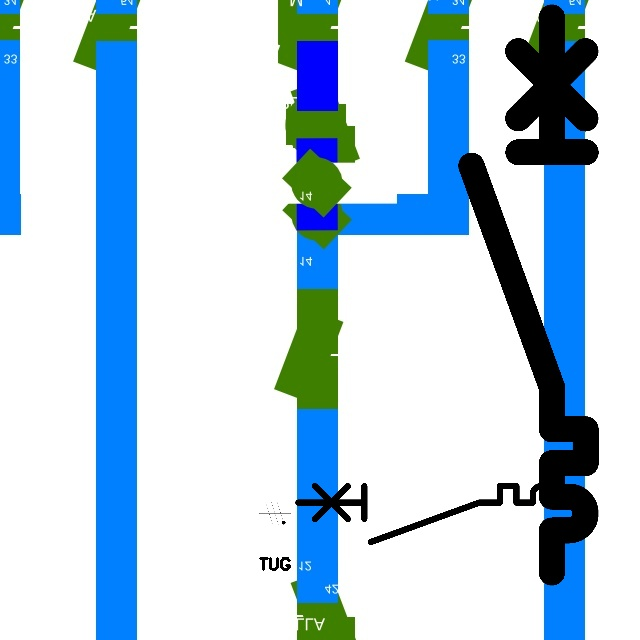interruptor_termomagnetico: (457, 3, 600, 587), (291, 479, 576, 549)
